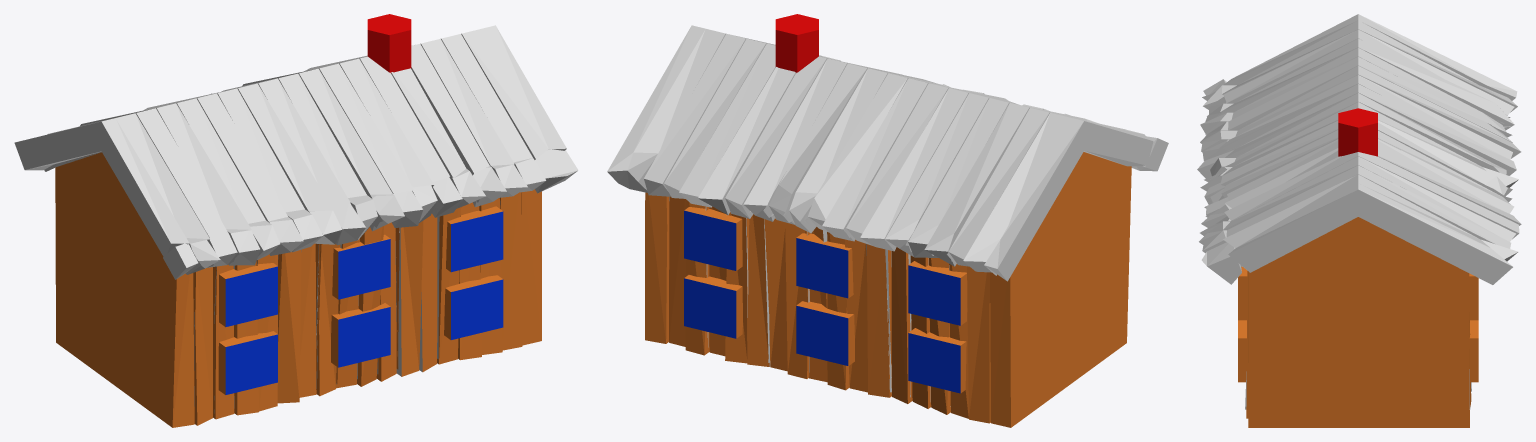
Rendered from apartment.dae.
3 views of the same model, side by side, from view 1: azimuth 30°, elevation 25°; view 2: azimuth 150°, elevation 25°; view 3: azimuth 270°, elevation 25° (orthographic). The views are drawn at different scales.
Parts seen in each view (by area): view 1: Cube; view 2: Cube; view 3: Cube.
Boxes of the visible parts, bbox=[...] form: Cube: bbox=[14, 14, 578, 427]; Cube: bbox=[607, 14, 1168, 427]; Cube: bbox=[1197, 14, 1521, 427].
Bounding box in the file's own units: 28 × 21.89 × 20.01.
